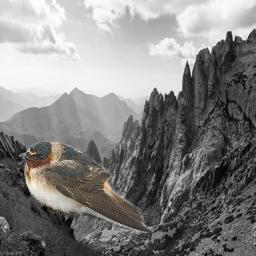Swallow: (19, 141, 154, 233)
